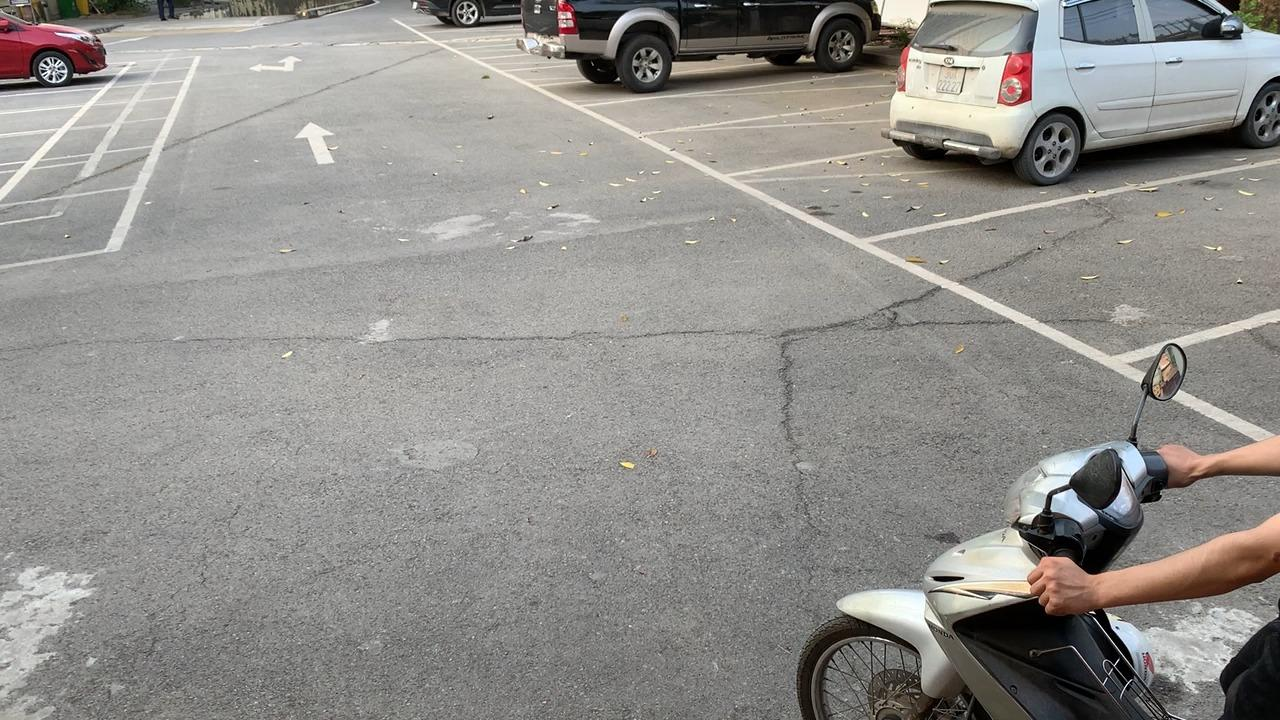motorcyclist: (795, 340, 1280, 720)
